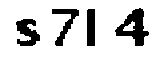4: (111, 6, 151, 49)
7: (47, 8, 81, 48)
l: (82, 7, 101, 50)
s: (9, 18, 41, 49)
